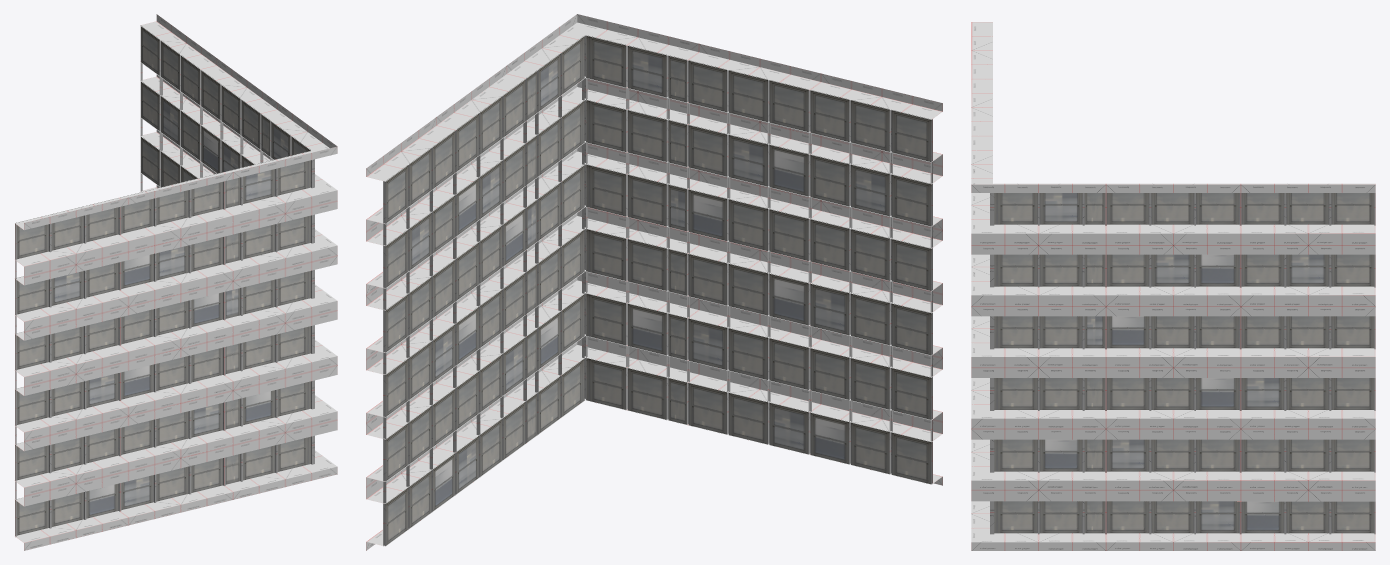
File: M_05_3x_a_cor.FBX
The picture shows the model from 3 angles, left to right: view 1: azimuth 30°, elevation 25°; view 2: azimuth 150°, elevation 25°; view 3: azimuth 270°, elevation 25°; orthographic projection. The views are drawn at different scales.
Parts seen in each view (by area): view 1: M_05_3x_a_cor; view 2: M_05_3x_a_cor; view 3: M_05_3x_a_cor.
Part boxes in pixels (box(x1,y1,x2,y2)): M_05_3x_a_cor: box(14, 14, 337, 550); M_05_3x_a_cor: box(366, 14, 942, 550); M_05_3x_a_cor: box(971, 22, 1375, 550).
Bounding box in the file's own units: 60.01 × 60.01 × 59.99.
